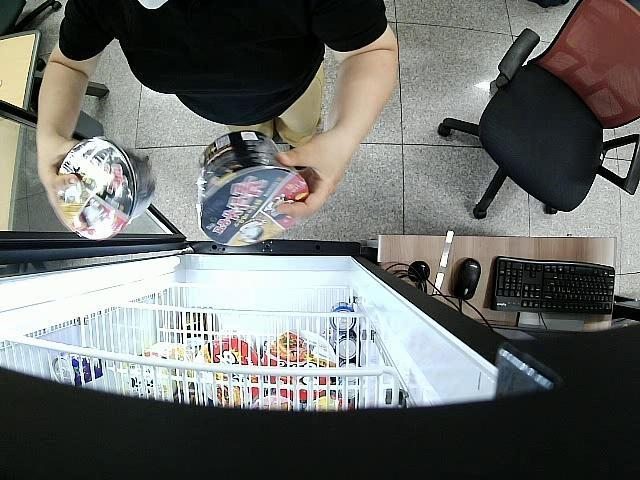07_buldak_L: (195, 130, 308, 246), (56, 138, 154, 239)
